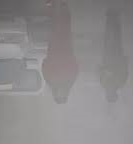person: (43, 3, 79, 102), (100, 5, 129, 102)
